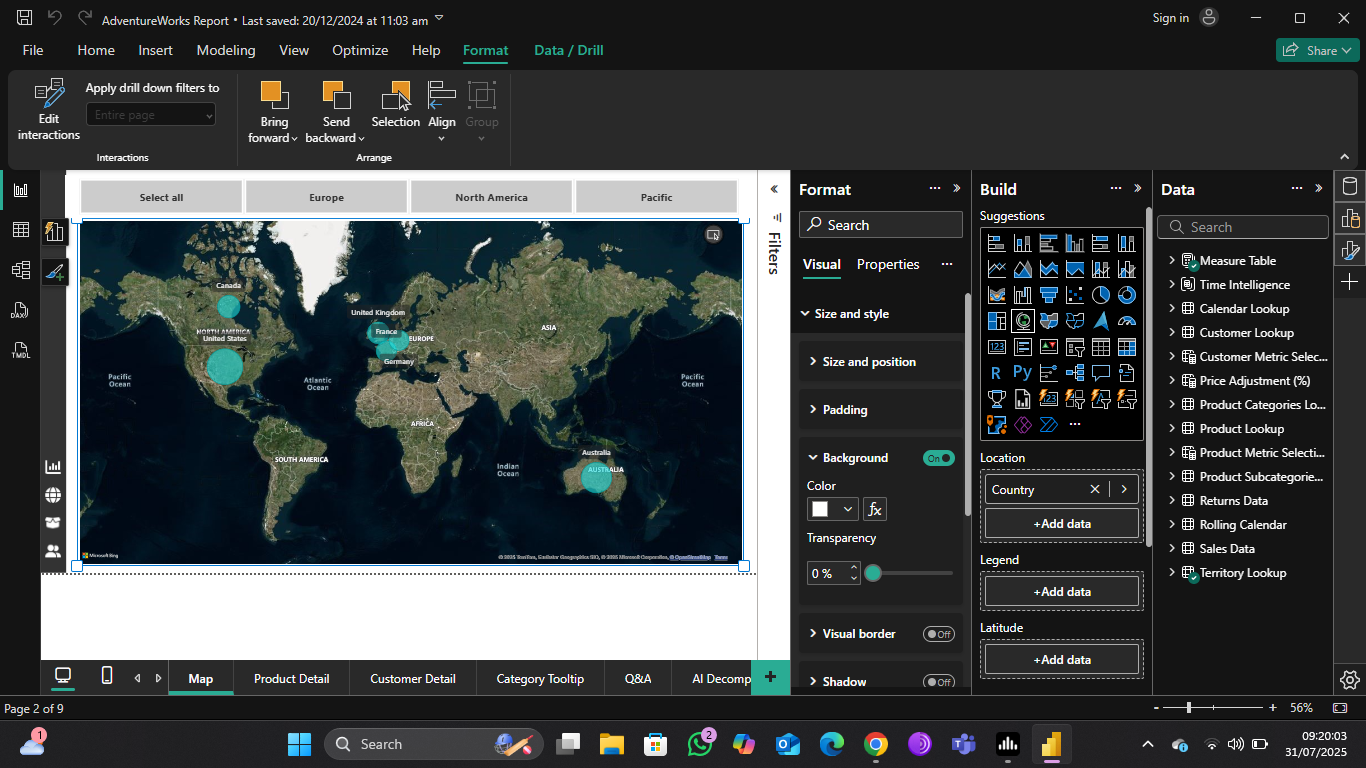

What the dashboard file says about the page in this screenshot:
{"tool":"powerbi","page":{"name":"Map","canvas":[1280,720],"ordinal":1},"visuals":[{"type":"shape","box":[0,0,45,720],"z":0},{"type":"actionButton","box":[3.9,512.7,38.6,36.1],"z":0,"group":"g1"},{"type":"map","fields":{"Category":["Territory Lookup.Country"],"Size":["Measure Table.Total Orders"]},"box":[63.9,85.7,1193.2,622.5],"z":1000},{"type":"actionButton","box":[3.9,562.9,38.6,36.2],"z":1000,"group":"g1"},{"type":"slicer","fields":{"Values":["Territory Lookup.Continent"]},"box":[43.4,8.4,1228.2,77.2],"z":2000},{"type":"actionButton","box":[3.9,613.2,38.6,35],"z":2000,"group":"g1"},{"type":"group","id":"g1","title":"Navigation Button","box":[3.9,512.7,38.6,185.8],"z":3000},{"type":"actionButton","box":[3.9,662.3,38.6,36.2],"z":3000,"group":"g1"}]}

Visuals, with their boxes on the page's 1280x720 design canvas (x1, y1, x2, y2). These are canvas units, not pixel positions in the 1366x768 screenshot, which may show the page scaled, cropped or inside an application window:
shape: bbox(0, 0, 45, 720)
actionButton: bbox(4, 513, 42, 549)
map - Territory Lookup.Country x Measure Table.Total Orders: bbox(64, 86, 1257, 708)
actionButton: bbox(4, 563, 42, 599)
slicer - Territory Lookup.Continent: bbox(43, 8, 1272, 86)
actionButton: bbox(4, 613, 42, 648)
"Navigation Button" group: bbox(4, 513, 42, 698)
actionButton: bbox(4, 662, 42, 698)
